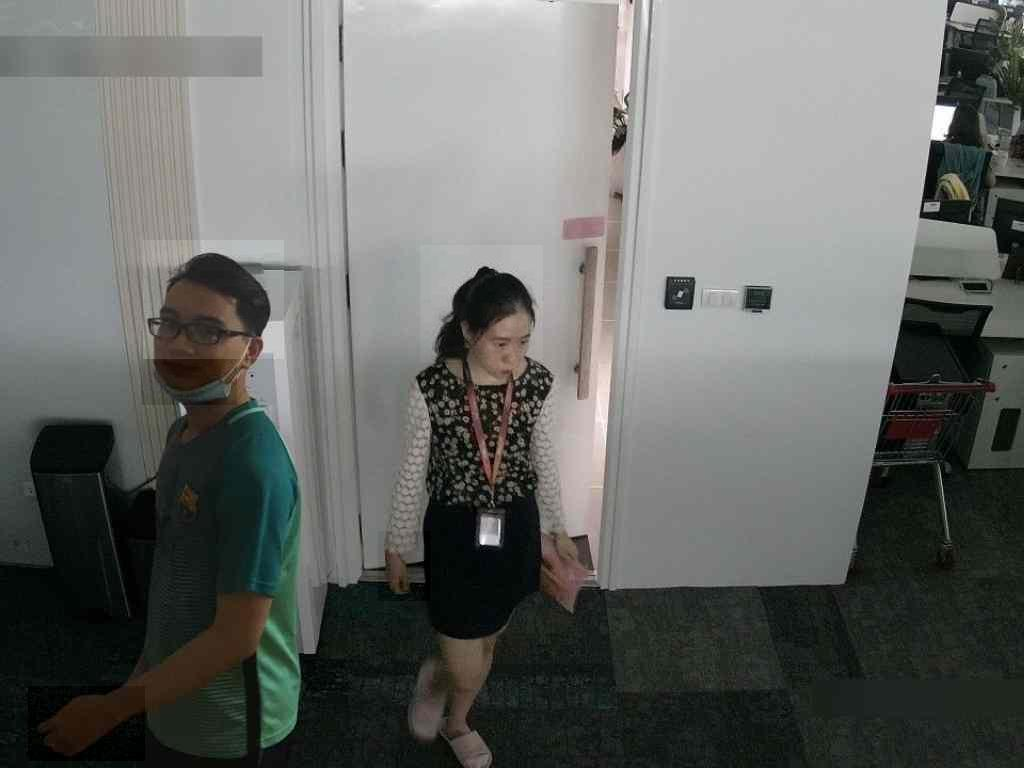no_apron: (28, 686, 146, 761), (378, 531, 430, 601)
no_gloves: (143, 240, 284, 360), (421, 246, 544, 363)
no_hairnet: (142, 332, 238, 406), (467, 302, 538, 381)
